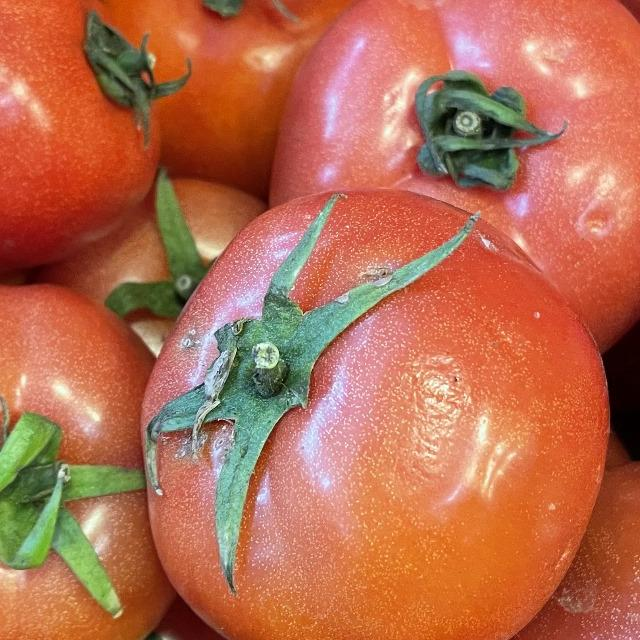tomato: (115, 157, 627, 640), (255, 0, 640, 327), (0, 260, 180, 640), (0, 0, 192, 275)
